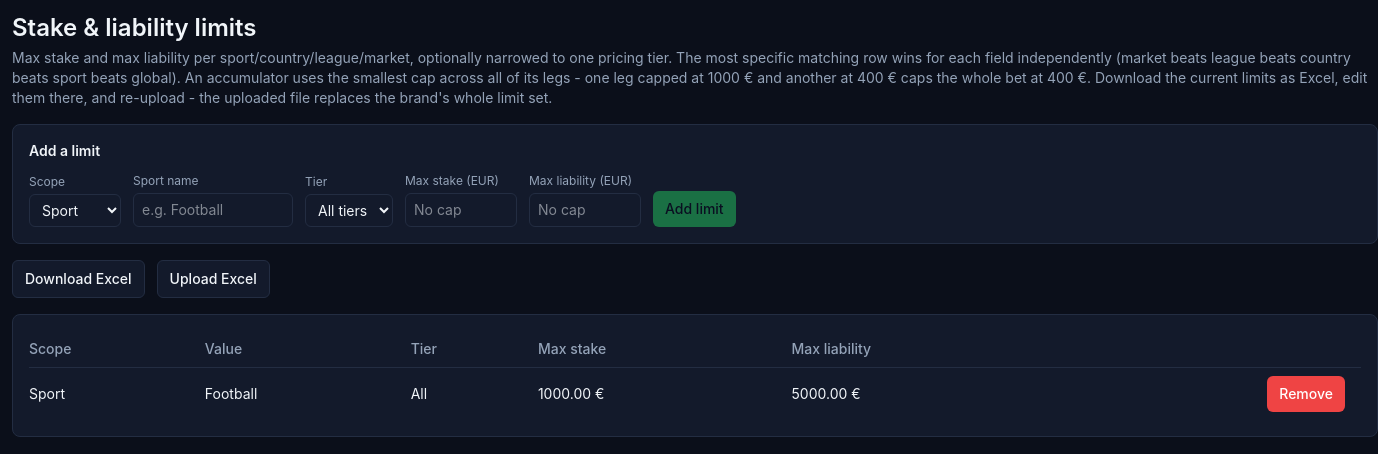
Test: StakeLimitsPage › removes a limit via DELETE
What coordinates should you click on to do the following:
click the button "Remove"
I would click on:
 (1306, 394)
Its box is x1=1267 y1=376 x2=1345 y2=412.
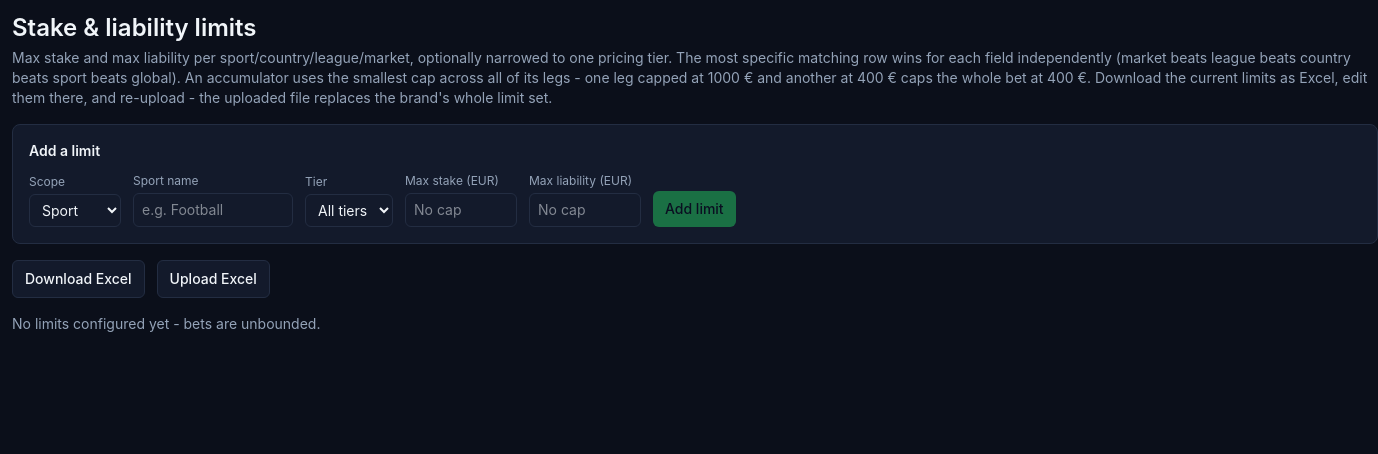
Now the text "No limits configured yet - bets are unbounded." is shown, box x1=12 y1=315 x2=320 y2=332
